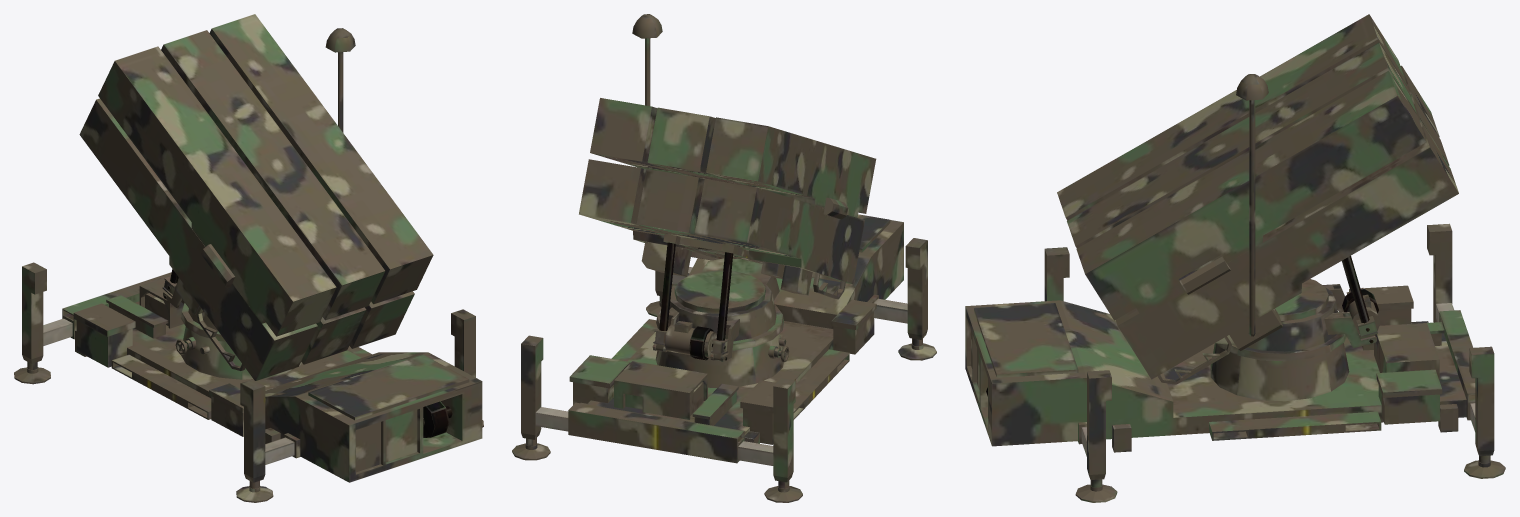
The model's file is sam.glb.
3 renders of one model, left to right at view 1: azimuth 30°, elevation 25°; view 2: azimuth 150°, elevation 25°; view 3: azimuth 270°, elevation 25°, orthographic. The views are drawn at different scales.
Parts seen in each view (by area): view 1: sam; view 2: sam; view 3: sam.
Boxes of the visible parts, bbox=[...] form: sam: bbox=[14, 14, 483, 502]; sam: bbox=[512, 14, 936, 502]; sam: bbox=[965, 14, 1505, 502].
Bounding box in the file's own units: 5.76 × 6.38 × 8.
Materials: 1 (1 with a texture image).
